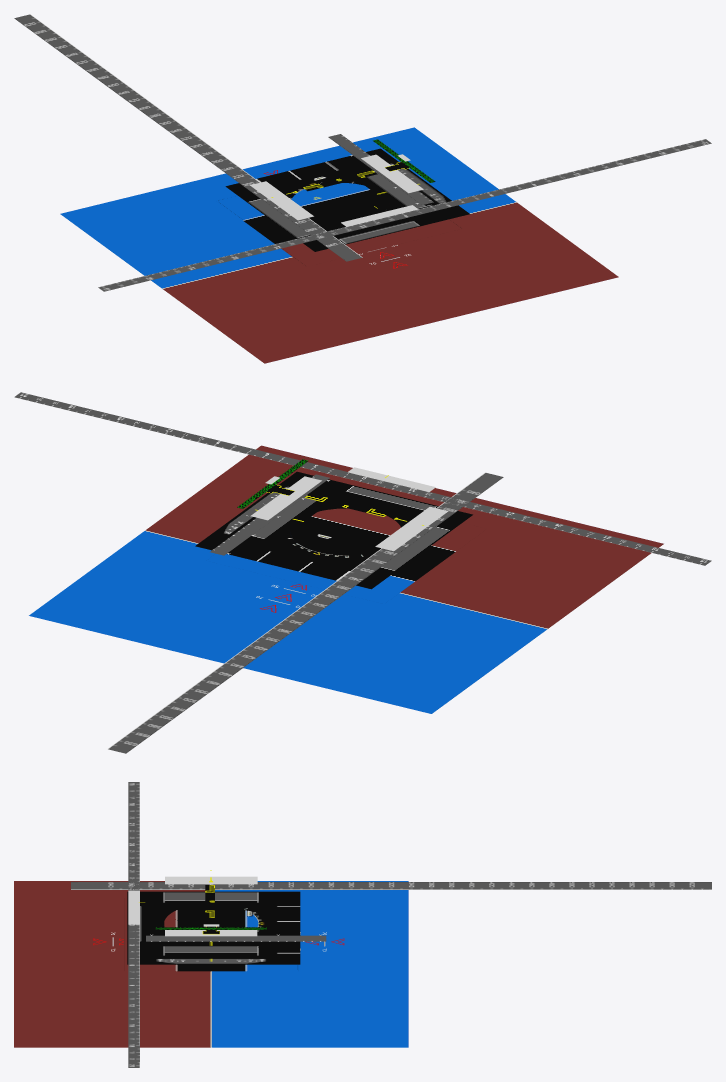
The model's file is A320_PFD.fbx.
The picture shows the model from 3 angles, top to bottom: view 1: azimuth 30°, elevation 25°; view 2: azimuth 150°, elevation 25°; view 3: azimuth 270°, elevation 25°; orthographic projection. The views are drawn at different scales.
Parts seen in each view (by area): view 1: AHI_BG, PFD_BG, Bank_BG, IAS_BG, HDG_BG, mask_IAS, ALT_BG, mask_ALT; view 2: AHI_BG, PFD_BG, Bank_BG, IAS_BG, HDG_BG, mask_IAS, ALT_BG, mask_ALT, mask_HDG; view 3: AHI_BG, PFD_BG, IAS_BG, Bank_BG, HDG_BG, ALT_BG, mask_IAS, mask_ALT.
Part boxes in pixels (<box>): AHI_BG: <box>60,127,618,363</box>; PFD_BG: <box>225,148,469,251</box>; Bank_BG: <box>216,183,462,266</box>; IAS_BG: <box>14,14,362,261</box>; HDG_BG: <box>98,139,711,291</box>; mask_IAS: <box>250,181,313,220</box>; ALT_BG: <box>328,134,433,205</box>; mask_ALT: <box>361,154,423,193</box>; AHI_BG: <box>29,445,663,713</box>; PFD_BG: <box>195,471,472,589</box>; Bank_BG: <box>206,508,486,603</box>; IAS_BG: <box>107,472,503,753</box>; HDG_BG: <box>14,392,711,565</box>; mask_IAS: <box>375,507,448,551</box>; ALT_BG: <box>210,474,329,555</box>; mask_ALT: <box>250,476,321,520</box>; mask_HDG: <box>348,467,435,491</box>; AHI_BG: <box>14,881,408,1047</box>; PFD_BG: <box>127,891,300,964</box>; IAS_BG: <box>71,882,711,889</box>; Bank_BG: <box>124,897,298,971</box>; HDG_BG: <box>128,782,139,1067</box>; ALT_BG: <box>146,934,326,941</box>; mask_IAS: <box>165,876,257,884</box>; mask_ALT: <box>165,930,257,936</box>.
Bounding box in the file's own units: 57.05 × 6.44 × 58.85.
